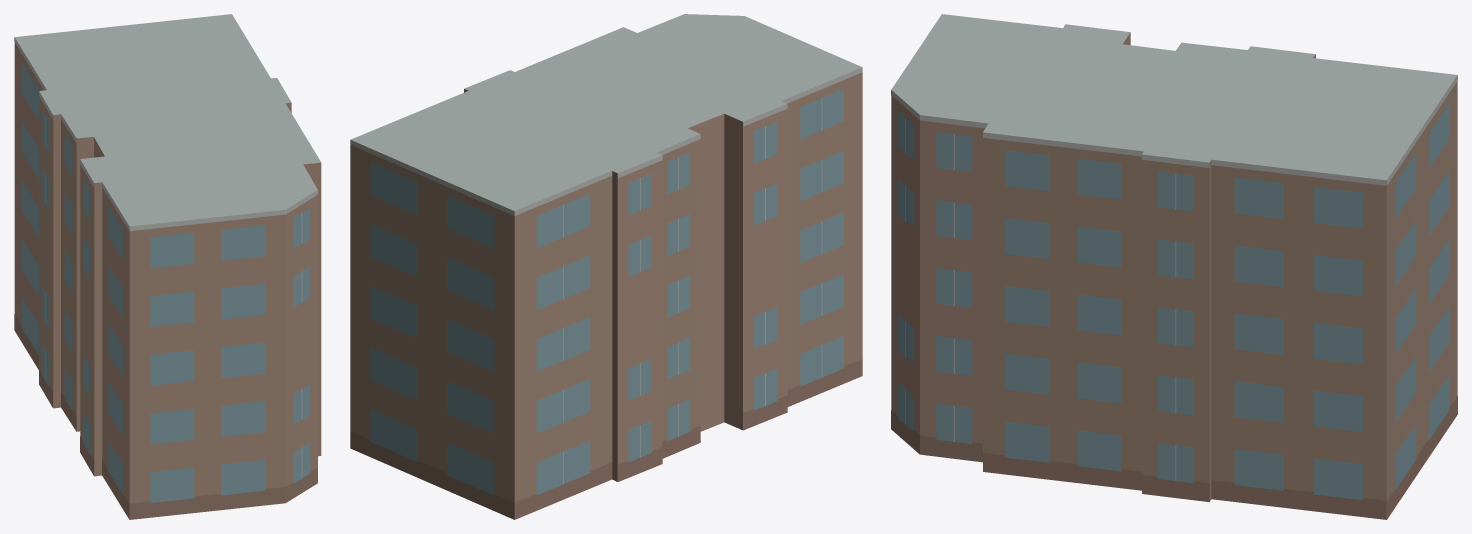
The model's file is survey-upis-32606106.glb.
3 views of the same model, side by side, from view 1: azimuth 30°, elevation 25°; view 2: azimuth 150°, elevation 25°; view 3: azimuth 270°, elevation 25° (orthographic). The views are drawn at different scales.
Visible parts, largest first — view 1: survey-upis-32606106.tmp; view 2: survey-upis-32606106.tmp; view 3: survey-upis-32606106.tmp.
Boxes of the visible parts, x1,y1,x2,y2 form: survey-upis-32606106.tmp: (14, 14, 321, 519); survey-upis-32606106.tmp: (350, 14, 862, 519); survey-upis-32606106.tmp: (891, 14, 1457, 519).
Bounding box in the file's own units: 16.04 × 15.25 × 23.08.
